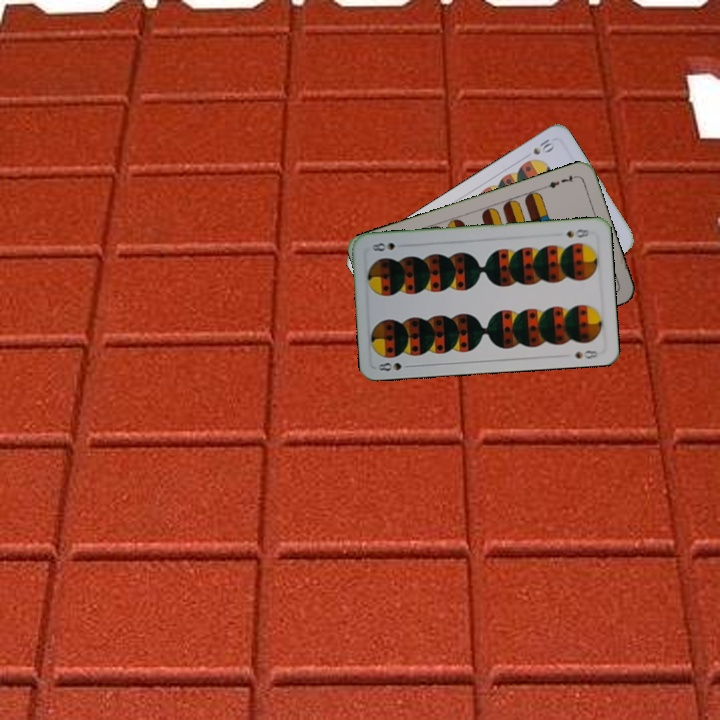E7: (540, 171, 580, 191)
S10: (529, 134, 557, 157)
S8: (374, 358, 415, 374), (562, 225, 592, 240)
